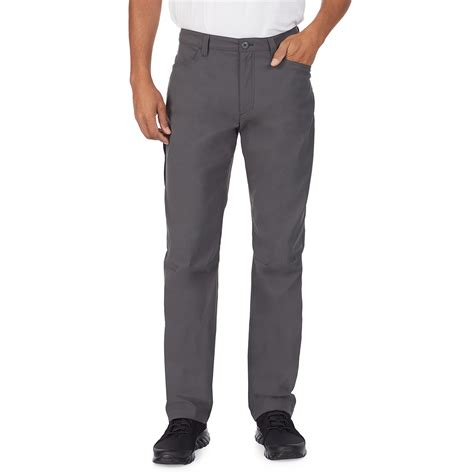nylon: (163, 29, 318, 418)
